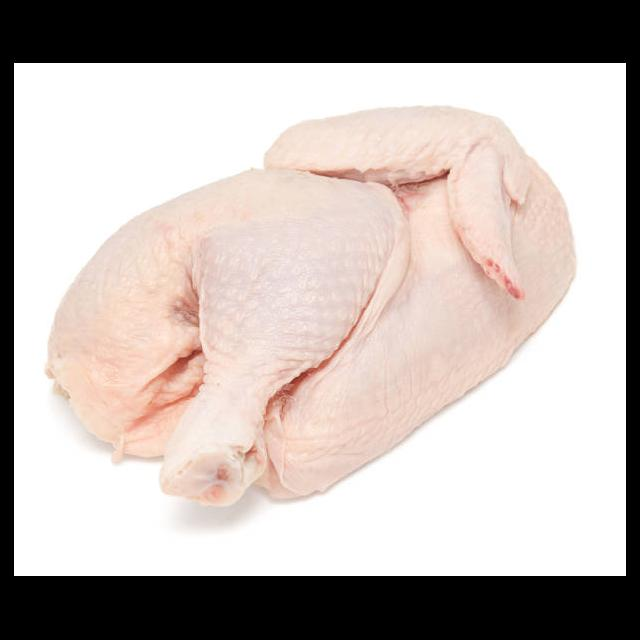chicken: (46, 101, 580, 506)
